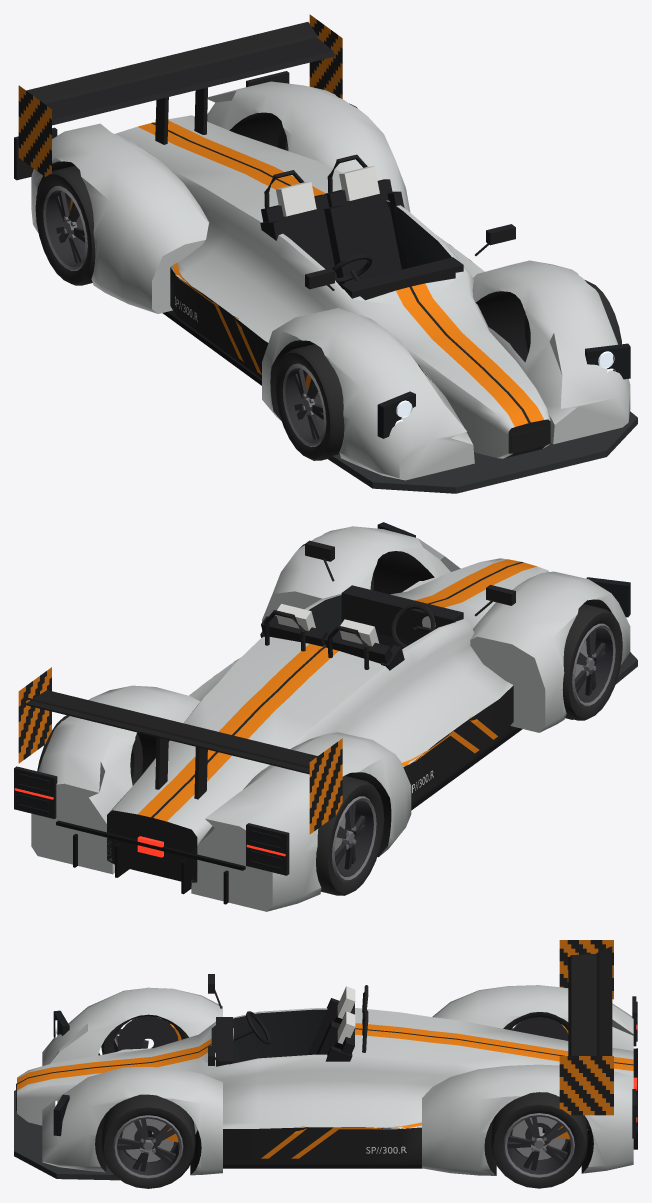
The picture shows the model from 3 angles, top to bottom: view 1: azimuth 30°, elevation 25°; view 2: azimuth 150°, elevation 25°; view 3: azimuth 270°, elevation 25°; orthographic projection. The views are drawn at different scales.
Visible parts, largest first — view 1: SP_Body, SP_Interior, SP_Wing, SP_Splitter, SP_Wheel_FR, SP_Wheel_RR, SP_WingFlap, SP_Lights, SP_EndPlate.001, SP_EndPlate, SP_Undertray; view 2: SP_Body, SP_Interior, SP_Lights, SP_Wheel_RR, SP_Wheel_FR, SP_Wing, SP_EndPlate.001, SP_EndPlate, SP_Diffuser, SP_Undertray, SP_WingFlap, SP_Wheel_RL (+3 smaller); view 3: SP_Body, SP_Wheel_RL, SP_Wheel_FL, SP_Interior, SP_EndPlate, SP_Wing, SP_Splitter, SP_Wheel_FR, SP_WingFlap, SP_Lights, SP_Undertray, SP_Wheel_RR (+2 smaller).
Part boxes in pixels (x1=…): SP_Body: x1=31, y1=81, x2=630, y2=480; SP_Interior: x1=260, y1=154, x2=463, y2=300; SP_Wing: x1=45, y1=37, x2=334, y2=125; SP_Splitter: x1=328, y1=411, x2=637, y2=493; SP_Wheel_FR: x1=275, y1=344, x2=344, y2=460; SP_Wheel_RR: x1=35, y1=165, x2=95, y2=285; SP_WingFlap: x1=26, y1=22, x2=317, y2=103; SP_Lights: x1=14, y1=71, x2=630, y2=451; SP_EndPlate.001: x1=18, y1=85, x2=51, y2=176; SP_EndPlate: x1=309, y1=14, x2=342, y2=98; SP_Undertray: x1=162, y1=310, x2=261, y2=385; SP_Body: x1=31, y1=526, x2=630, y2=911; SP_Interior: x1=260, y1=585, x2=463, y2=670; SP_Lights: x1=14, y1=522, x2=630, y2=875; SP_Wheel_RR: x1=316, y1=775, x2=384, y2=895; SP_Wheel_FR: x1=562, y1=604, x2=622, y2=720; SP_Wing: x1=25, y1=690, x2=317, y2=774; SP_EndPlate.001: x1=309, y1=738, x2=342, y2=834; SP_EndPlate: x1=18, y1=667, x2=51, y2=763; SP_Diffuser: x1=56, y1=820, x2=245, y2=904; SP_Undertray: x1=411, y1=726, x2=522, y2=810; SP_WingFlap: x1=22, y1=697, x2=309, y2=768; SP_Wheel_RL: x1=37, y1=715, x2=142, y2=785; SP_Body: x1=17, y1=985, x2=633, y2=1175; SP_Wheel_RL: x1=491, y1=1092, x2=587, y2=1188; SP_Wheel_FL: x1=101, y1=1094, x2=195, y2=1188; SP_Interior: x1=216, y1=985, x2=368, y2=1066; SP_EndPlate: x1=559, y1=1056, x2=613, y2=1115; SP_Wing: x1=568, y1=953, x2=596, y2=1055; SP_Splitter: x1=14, y1=1090, x2=153, y2=1180; SP_Wheel_FR: x1=101, y1=1014, x2=188, y2=1054; SP_WingFlap: x1=596, y1=946, x2=612, y2=1055; SP_Lights: x1=16, y1=974, x2=637, y2=1138; SP_Undertray: x1=223, y1=1137, x2=539, y2=1168; SP_Wheel_RR: x1=503, y1=1012, x2=568, y2=1040.
Bounding box in the file's own units: 1.97 × 1.04 × 4.39.
